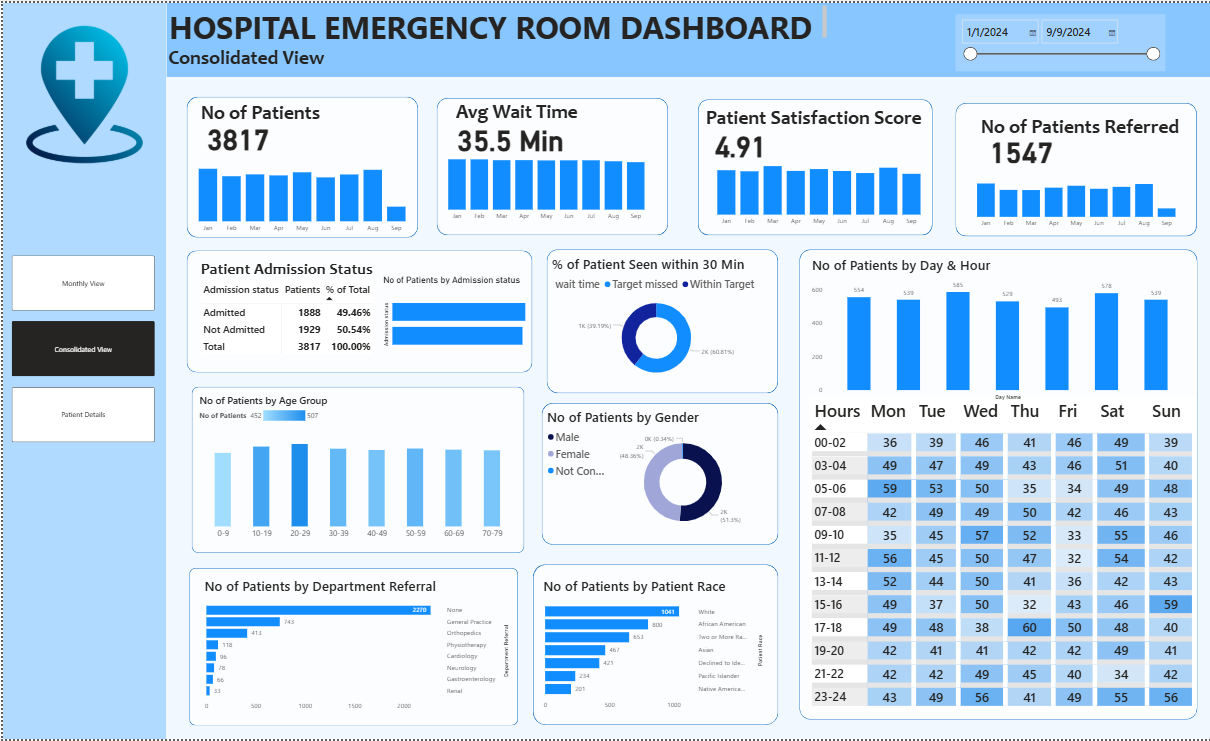

What the dashboard file says about the page in this screenshot:
{"tool":"powerbi","page":{"name":"Consolidated View","canvas":[2300,1400],"ordinal":1},"visuals":[{"type":"shape","box":[350.2,471.7,657.3,232],"z":0},{"type":"shape","box":[349.3,177.9,439.8,268.2],"z":1000},{"type":"shape","box":[0,0,310,1400.5],"z":2000},{"type":"shape","box":[310.7,0,1989.8,140.5],"z":3000},{"type":"textbox","box":[310.7,0,1260,78.9],"z":4000},{"type":"textbox","box":[310,75,307.5,65],"z":5000},{"type":"card","fields":{"Values":["Hospital ER_Data.No of Patients"]},"box":[370,220,152.5,65],"z":6000},{"type":"slicer","fields":{"Values":["Date Table.Date"]},"box":[1812.5,22.5,397.5,107.5],"z":7000},{"type":"textbox","box":[370.7,180.2,246.6,71.5],"z":8000},{"type":"columnChart","fields":{"Category":["Date Table.Month Name"],"Y":["Hospital ER_Data.No of Patients"]},"box":[350,282.5,440,162.5],"z":9000},{"type":"shape","box":[825.3,180.3,439.8,261],"z":10000},{"type":"card","fields":{"Values":["Hospital ER_Data.Avg Wait Time"]},"box":[857.4,222.6,214.5,64.1],"z":11000},{"type":"textbox","box":[854.9,178.2,246.6,71.5],"z":12000},{"type":"columnChart","fields":{"Category":["Date Table.Month Name"],"Y":["Avg(Hospital ER_Data.Patient Waittime)"]},"box":[825.3,274.6,418.1,149.8],"z":13000},{"type":"shape","box":[1320.9,182.2,446.3,258.9],"z":14000},{"type":"card","fields":{"Values":["Hospital ER_Data.satisfaction Score"]},"box":[1330.8,236.4,143,64.1],"z":15000},{"type":"textbox","box":[1330.8,189.6,436.4,71.5],"z":16000},{"type":"columnChart","fields":{"Category":["Date Table.Month Name"],"Y":["Hospital ER_Data.satisfaction Score"]},"box":[1335.5,284.4,432.6,147.4],"z":17000},{"type":"shape","box":[1812.6,190,459.1,253.7],"z":18000},{"type":"card","fields":{"Values":["Hospital ER_Data.No of Patient Referred"]},"box":[1862.5,247.5,150,62.5],"z":19000},{"type":"textbox","box":[1854.7,207.3,404.4,71.5],"z":20000},{"type":"columnChart","fields":{"Category":["Date Table.Month Name"],"Y":["Hospital ER_Data.No of Patient Referred"]},"box":[1830,302.5,422.5,135],"z":21000},{"type":"pivotTable","title":"Patient Admission Status","fields":{"Rows":["Hospital ER_Data.Admission status"],"Values":["Hospital ER_Data.No of Patients1","Hospital ER_Data.No of Patients"]},"box":[370.4,488.5,638,215.1],"z":22000},{"type":"barChart","fields":{"Category":["Hospital ER_Data.Admission status"],"Y":["Hospital ER_Data.No of Patients"]},"box":[718.4,515.1,290,164.3],"z":23000},{"type":"shape","box":[359,730.7,632.5,316.2],"z":24000},{"type":"clusteredColumnChart","fields":{"Category":["Hospital ER_Data.Age Group"],"Y":["Hospital ER_Data.No of Patients"]},"box":[368.5,742.6,613.5,287.7],"z":25000},{"type":"shape","box":[354.3,1074.7,625.3,299.6],"z":26000},{"type":"clusteredBarChart","fields":{"Category":["Hospital ER_Data.Department Referral"],"Y":["Hospital ER_Data.No of Patients"]},"box":[378.1,1091.4,589.7,263.9],"z":27000},{"type":"shape","box":[1034,468,440,274],"z":28000},{"type":"donutChart","title":"% of Patient Seen within 30 Min","fields":{"Category":["Hospital ER_Data.waittime"],"Y":["Hospital ER_Data.No of Patients"]},"box":[1039.2,478.4,407.8,249],"z":29000},{"type":"shape","box":[1024,760,450,270],"z":30000},{"type":"donutChart","title":"No of Patients by Gender","fields":{"Y":["Hospital ER_Data.No of Patients"],"Category":["Hospital ER_Data.Patient Gender"]},"box":[1029.3,770.6,407.8,249],"z":31000},{"type":"shape","box":[1007.8,1068.6,466.7,305.9],"z":32000},{"type":"clusteredBarChart","fields":{"Y":["Hospital ER_Data.No of Patients"],"Category":["Hospital ER_Data.Patient Race"]},"box":[1023.5,1090.2,429.4,262.7],"z":33000},{"type":"shape","box":[1515,467.5,757.5,895],"z":34000},{"type":"pivotTable","fields":{"Rows":["Hospital ER_Data.Waittime Interval"],"Columns":["Date Table.Day Name"],"Values":["Hospital ER_Data.No of Patients"]},"box":[1532.5,747.5,735,605],"z":35000},{"type":"columnChart","title":"No of Patients by Day & Hour","fields":{"Category":["Date Table.Day Name"],"Y":["Hospital ER_Data.No of Patients"]},"box":[1532.5,480,727.5,280],"z":36000},{"type":"image","box":[20,37.5,272.5,272.5],"z":37000},{"type":"pageNavigator","box":[17.5,480,272.5,357.5],"z":38000}]}

Visuals, with their boxes in screenshot pixels (x1, y1, x2, y2), scaled from the page's 2300x1400 canvas onto the 1210x741 screenshot:
shape: box=[184, 250, 530, 372]
shape: box=[184, 94, 415, 236]
shape: box=[0, 0, 163, 740]
shape: box=[163, 0, 1209, 74]
textbox: box=[163, 0, 826, 42]
textbox: box=[163, 40, 325, 74]
card - Hospital ER_Data.No of Patients: box=[195, 116, 275, 151]
slicer - Date Table.Date: box=[954, 12, 1163, 69]
textbox: box=[195, 95, 325, 133]
columnChart - Date Table.Month Name x Hospital ER_Data.No of Patients: box=[184, 150, 416, 236]
shape: box=[434, 95, 666, 234]
card - Hospital ER_Data.Avg Wait Time: box=[451, 118, 564, 152]
textbox: box=[450, 94, 579, 132]
columnChart - Date Table.Month Name x Avg(Hospital ER_Data.Patient Waittime): box=[434, 145, 654, 225]
shape: box=[695, 96, 930, 233]
card - Hospital ER_Data.satisfaction Score: box=[700, 125, 775, 159]
textbox: box=[700, 100, 930, 138]
columnChart - Date Table.Month Name x Hospital ER_Data.satisfaction Score: box=[703, 151, 930, 229]
shape: box=[954, 101, 1195, 235]
card - Hospital ER_Data.No of Patient Referred: box=[980, 131, 1059, 164]
textbox: box=[976, 110, 1188, 148]
columnChart - Date Table.Month Name x Hospital ER_Data.No of Patient Referred: box=[963, 160, 1185, 232]
"Patient Admission Status" pivotTable: box=[195, 259, 531, 372]
barChart - Hospital ER_Data.Admission status x Hospital ER_Data.No of Patients: box=[378, 273, 531, 360]
shape: box=[189, 387, 522, 554]
clusteredColumnChart - Hospital ER_Data.Age Group x Hospital ER_Data.No of Patients: box=[194, 393, 517, 545]
shape: box=[186, 569, 515, 727]
clusteredBarChart - Hospital ER_Data.Department Referral x Hospital ER_Data.No of Patients: box=[199, 578, 509, 717]
shape: box=[544, 248, 775, 393]
"% of Patient Seen within 30 Min" donutChart: box=[547, 253, 761, 385]
shape: box=[539, 402, 775, 545]
"No of Patients by Gender" donutChart: box=[542, 408, 756, 540]
shape: box=[530, 566, 776, 728]
clusteredBarChart - Hospital ER_Data.No of Patients x Hospital ER_Data.Patient Race: box=[538, 577, 764, 716]
shape: box=[797, 247, 1196, 721]
pivotTable - Hospital ER_Data.Waittime Interval x Date Table.Day Name: box=[806, 396, 1193, 716]
"No of Patients by Day & Hour" columnChart: box=[806, 254, 1189, 402]
image: box=[11, 20, 154, 164]
pageNavigator: box=[9, 254, 153, 443]
